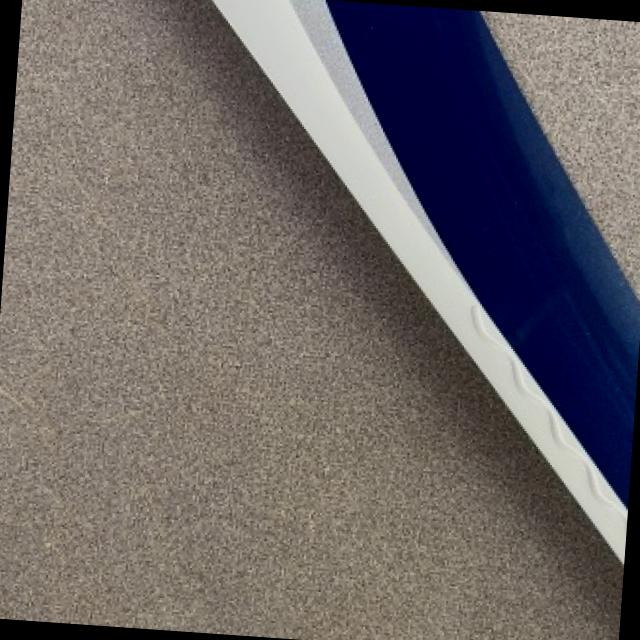healthy: (0, 0, 624, 640), (217, 0, 640, 557)
